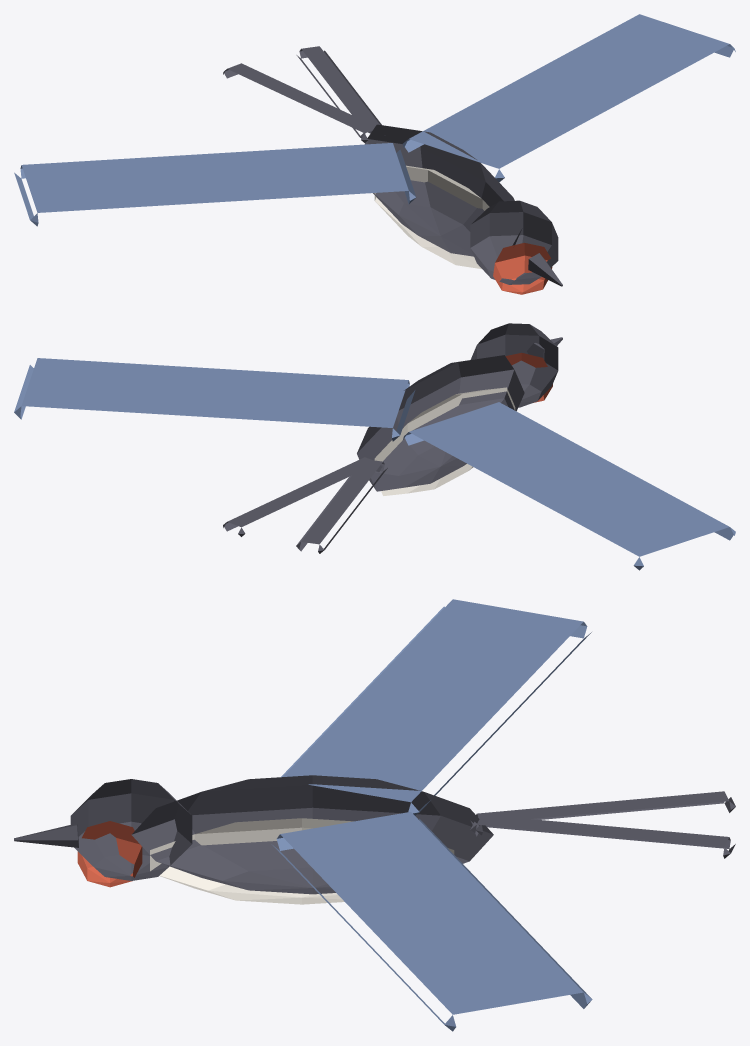
File: swallow.glb
The picture shows the model from 3 angles, top to bottom: view 1: azimuth 30°, elevation 25°; view 2: azimuth 150°, elevation 25°; view 3: azimuth 270°, elevation 25°; orthographic projection. The views are drawn at different scales.
Visible parts, largest first — view 1: WingR, WingL, Body, Tail; view 2: WingL, WingR, Body, Tail; view 3: Body, WingL, WingR, Tail.
Boxes of the visible parts, x1,y1,x2,y2 form: WingR: (14, 143, 416, 226); WingL: (402, 14, 735, 182); Body: (364, 124, 562, 294); Tail: (223, 46, 381, 142); WingL: (14, 358, 415, 441); WingR: (402, 402, 735, 570); Body: (357, 323, 562, 495); Tail: (223, 457, 387, 553); Body: (14, 775, 493, 904); WingL: (271, 812, 592, 1031); WingR: (281, 599, 591, 815); Tail: (470, 791, 735, 858).
Size of the model in its own units: 0.2 by 0.0256 by 0.1443.
